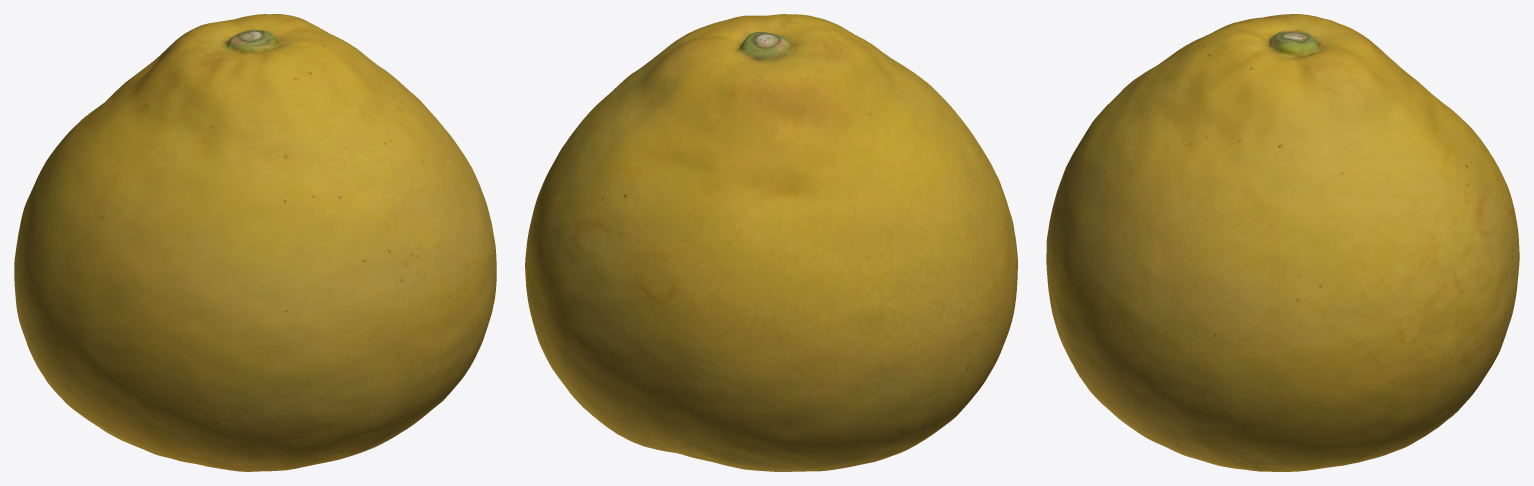
Rendered from pomelo.glb.
3 renders of one model, left to right at view 1: azimuth 30°, elevation 25°; view 2: azimuth 150°, elevation 25°; view 3: azimuth 270°, elevation 25°, orthographic. The views are drawn at different scales.
Visible parts, largest first — view 1: fruitai_marime_reala; view 2: fruitai_marime_reala; view 3: fruitai_marime_reala.
Part boxes in pixels (box(x1,y1,x2,y2)): fruitai_marime_reala: box(14, 14, 496, 471); fruitai_marime_reala: box(525, 14, 1017, 471); fruitai_marime_reala: box(1046, 14, 1519, 471).
Size of the model in its own units: 0.1721 by 0.1506 by 0.166.
Materials: 1 (1 with a texture image).
